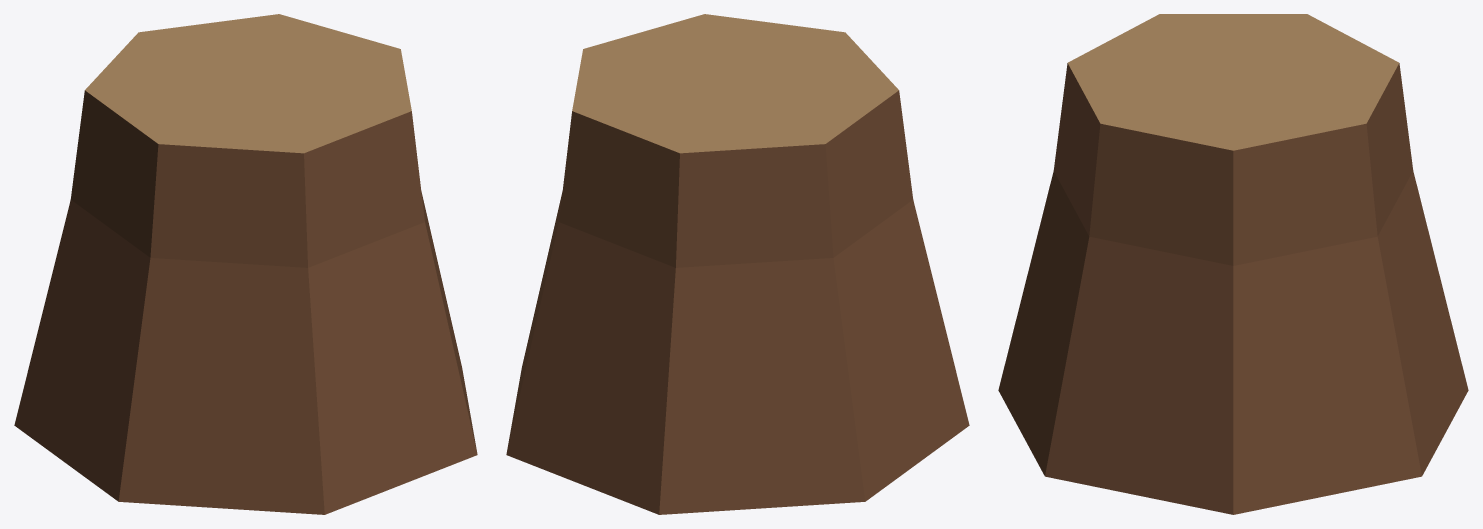
File: tree_stump.glb
3 views of the same model, side by side, from view 1: azimuth 30°, elevation 25°; view 2: azimuth 150°, elevation 25°; view 3: azimuth 270°, elevation 25° (orthographic).
Visible parts, largest first — view 1: tree_stump; view 2: tree_stump; view 3: tree_stump.
Boxes of the visible parts, <box> form: tree_stump: <box>14,14,477,514</box>; tree_stump: <box>506,14,969,514</box>; tree_stump: <box>998,14,1468,514</box>.
Bounding box in the file's own units: 0.6463 × 0.52 × 0.663.
